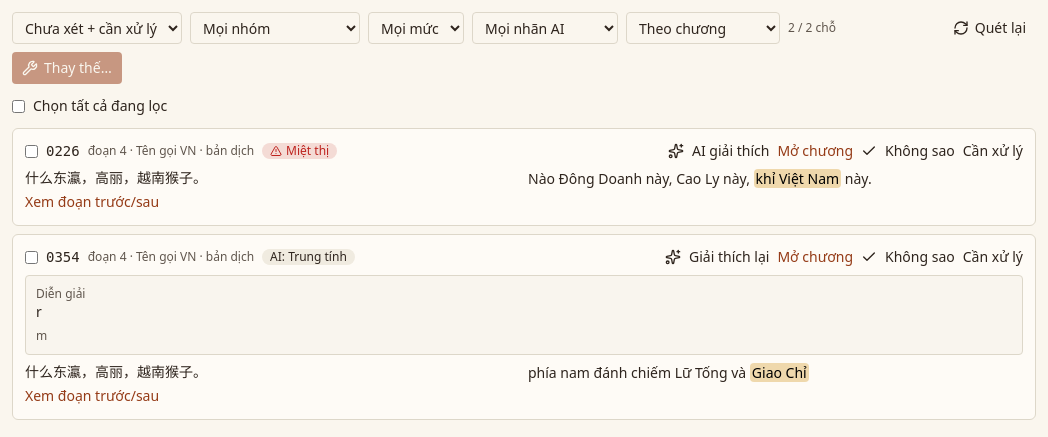
Scenario: VnCheckPanel › lọc theo mức, nhãn AI; chọn tất cả đang lọc
Expected: the text "0226" is shown, left=46, top=141, right=80, bottom=161
Select "Cần xem" in the dropdown named "Mức" at (416,28), box left=368, top=12, right=464, bottom=44
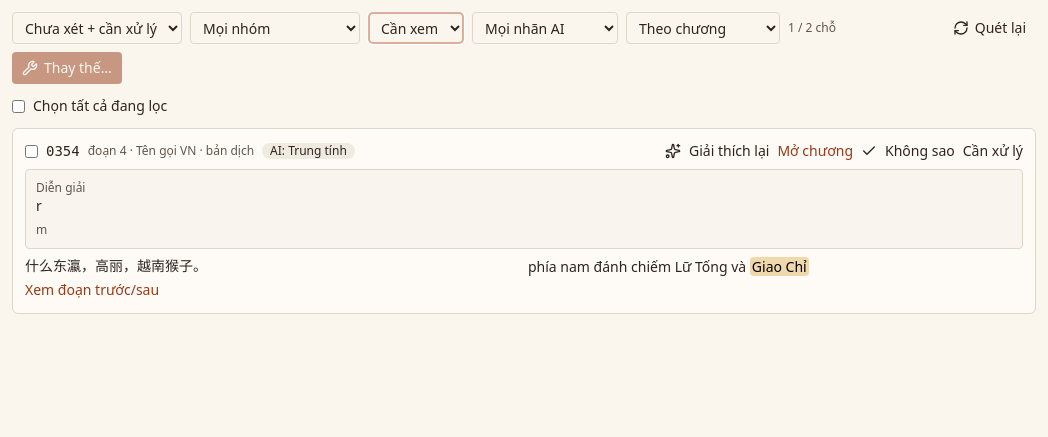
Expected: the text "0354" is shown, left=46, top=141, right=80, bottom=161
Now the text "0226" is gone
Select "Mọi mức" in the dropdown named "Mức" at (416,28), box left=368, top=12, right=464, bottom=44
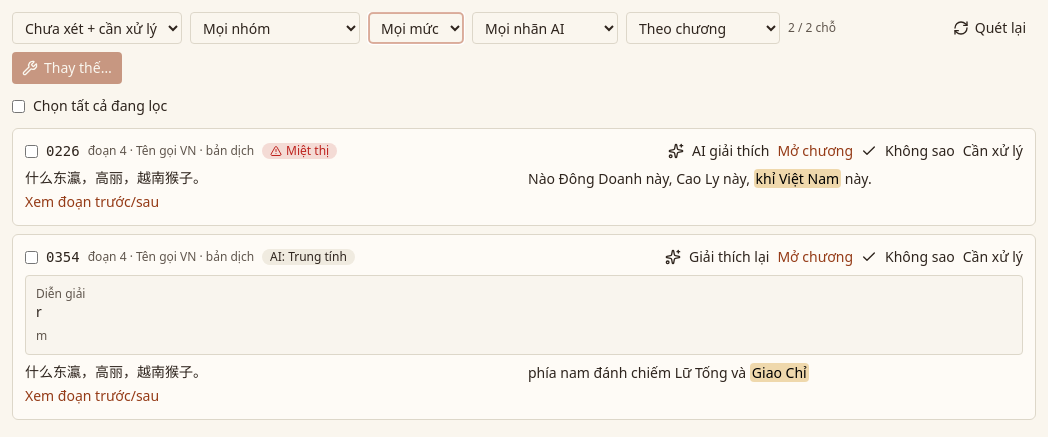
Select "Chưa xét AI" in the dropdown named "Nhãn AI" at (545,28), box left=472, top=12, right=618, bottom=44
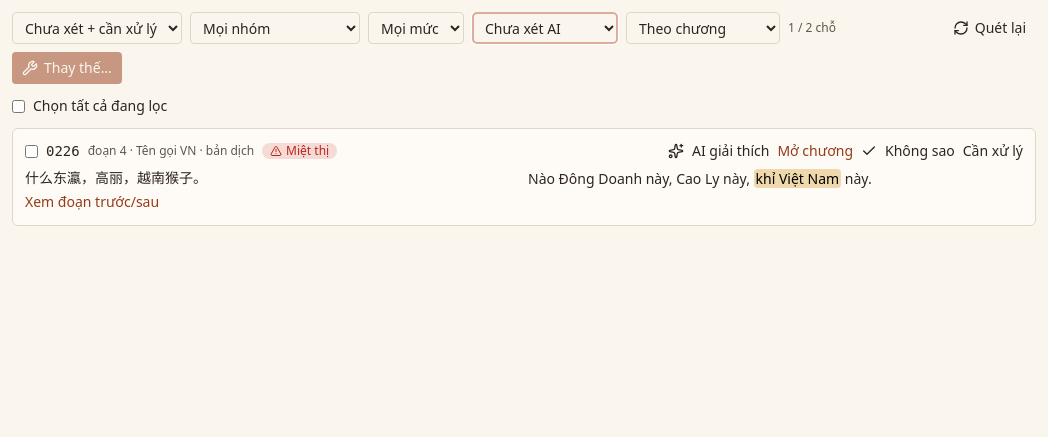
Now the text "0226" is shown, box left=46, top=141, right=80, bottom=161
Now the text "0354" is gone
Select "Mọi nhãn AI" in the dropdown named "Nhãn AI" at (545,28), box left=472, top=12, right=618, bottom=44
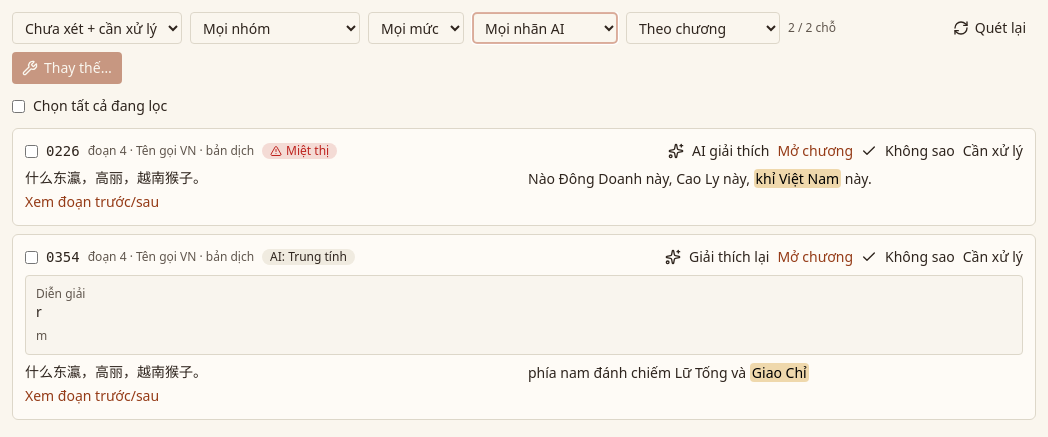
Click the checkbox labelled "Chọn tất cả đang lọc" at (18,106), box left=12, top=100, right=25, bottom=112
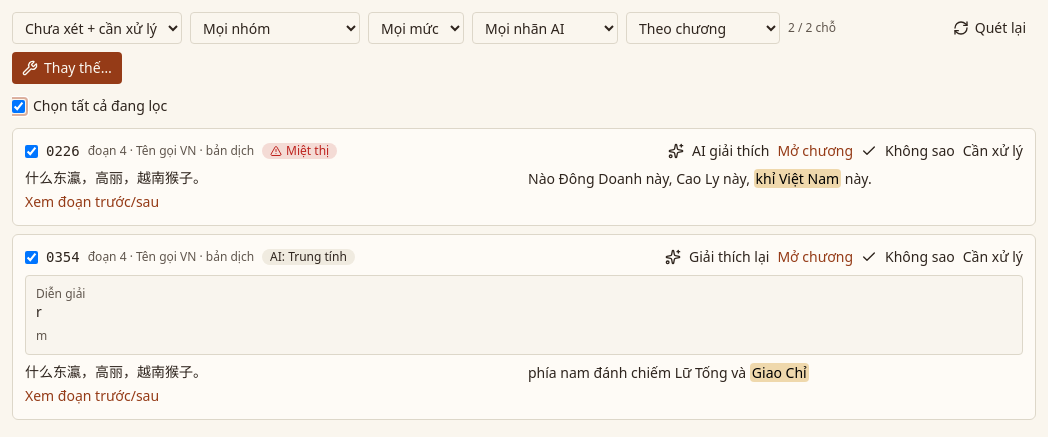
Now the button "Thay thế…" is enabled, box left=12, top=52, right=122, bottom=84
